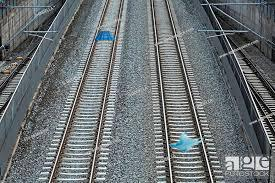Dust_screen: (91, 26, 118, 45)
Plastic: (172, 129, 204, 156)
